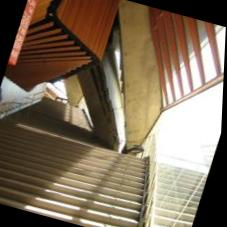Bench: (0, 143, 126, 227)
